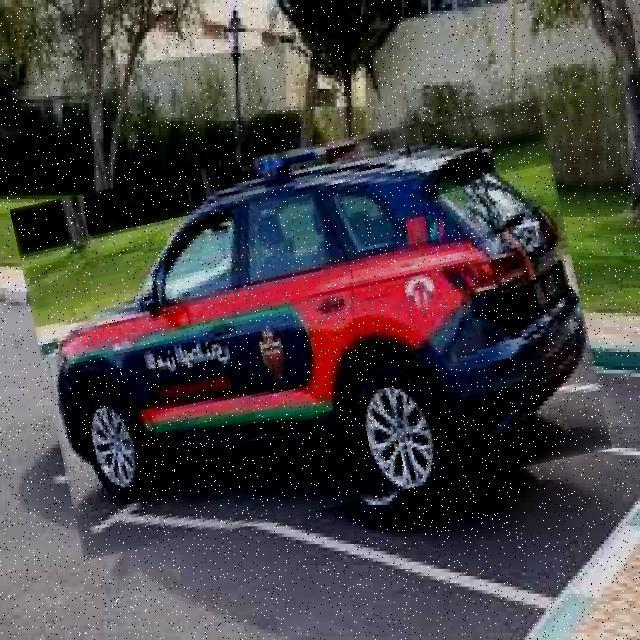police: (26, 123, 596, 534)
